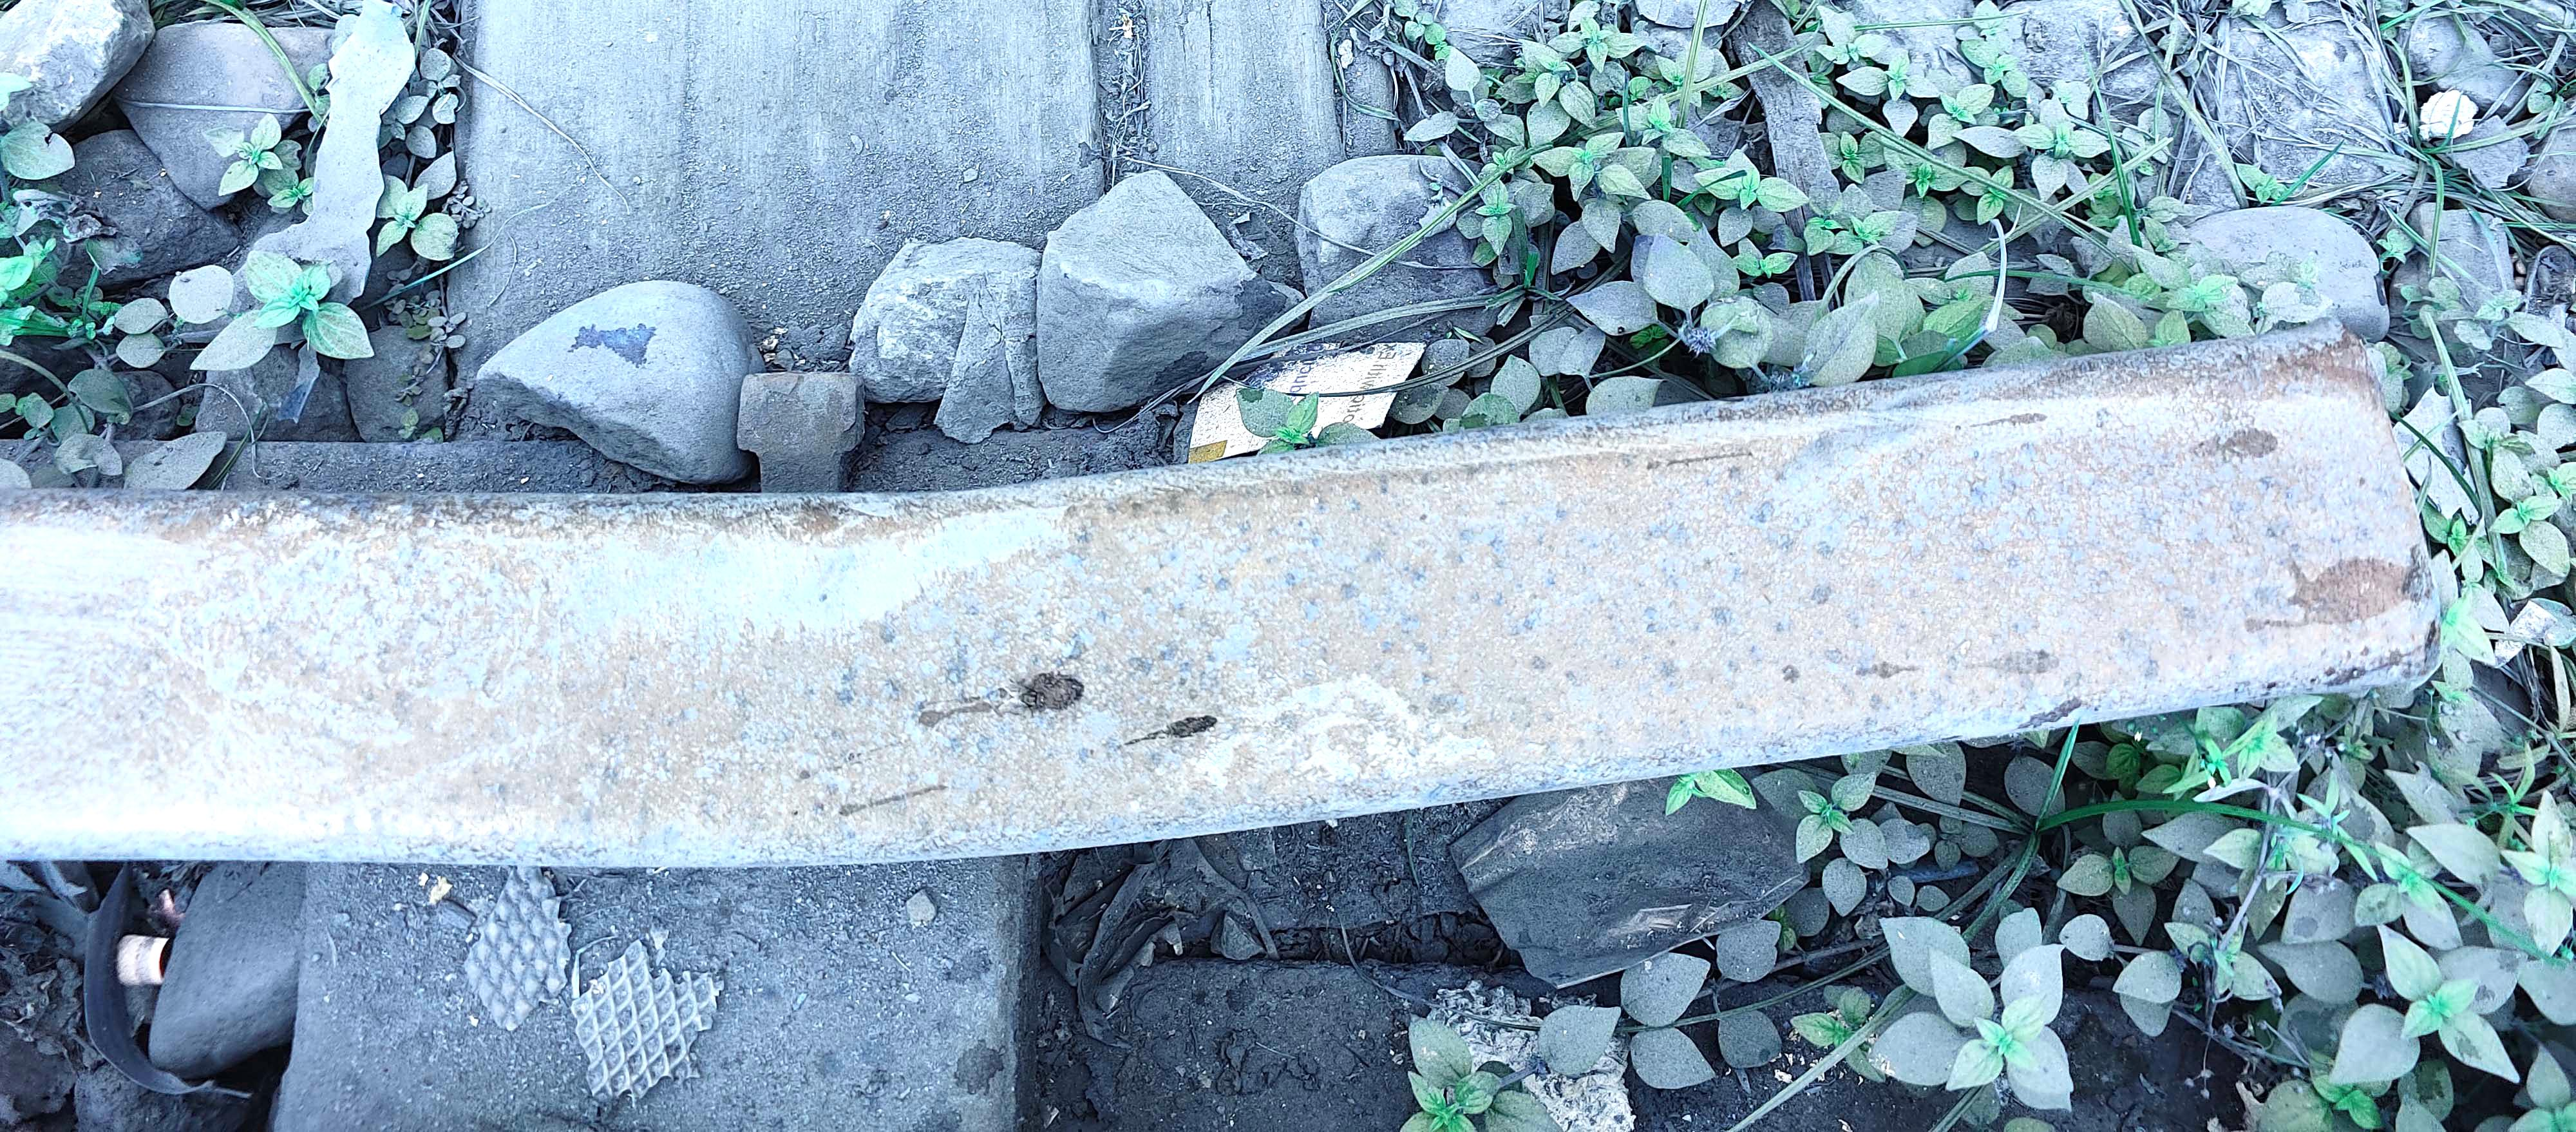error2: (2249, 218, 2545, 749)
